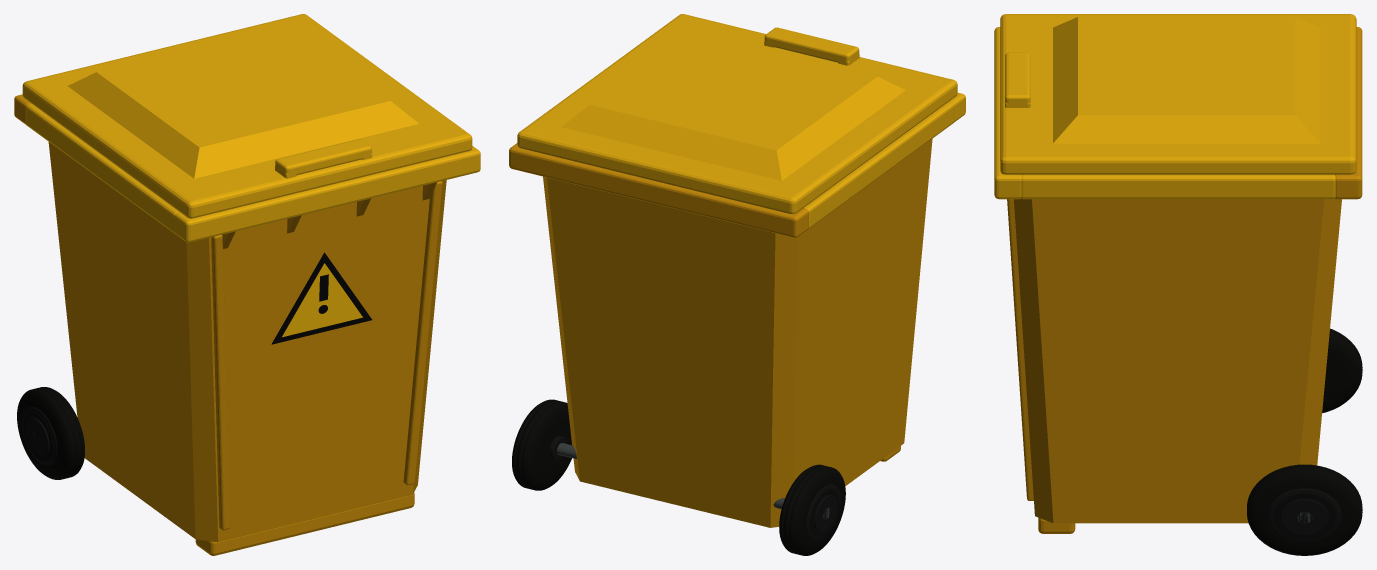
Rendered from asset.fbx.
The picture shows the model from 3 angles, left to right: view 1: azimuth 30°, elevation 25°; view 2: azimuth 150°, elevation 25°; view 3: azimuth 270°, elevation 25°; orthographic projection. The views are drawn at different scales.
Parts seen in each view (by area): view 1: my_asset_hollow_tapered_body, my_asset_lid_raised_center, my_asset_removable_lid_plate, my_asset_front_top_rim, my_asset_left_top_rim, my_asset_front_right_vertical_rib, my_asset_front_left_vertical_rib, my_asset_left_wheel, my_asset_front_bottom_contact, my_asset_front_warning_yellow_inset, my_asset_lid_front_grip, my_asset_front_warning_triangle (+2 smaller); view 2: my_asset_hollow_tapered_body, my_asset_lid_raised_center, my_asset_removable_lid_plate, my_asset_rear_top_rim, my_asset_right_wheel, my_asset_left_top_rim, my_asset_left_wheel, my_asset_lid_front_grip, my_asset_left_wheel_hub; view 3: my_asset_hollow_tapered_body, my_asset_lid_raised_center, my_asset_removable_lid_plate, my_asset_right_top_rim, my_asset_right_wheel, my_asset_left_wheel, my_asset_front_right_vertical_rib, my_asset_rear_top_rim, my_asset_front_top_rim, my_asset_right_wheel_hub, my_asset_lid_front_grip, my_asset_right_hub_outer_flange (+1 smaller).
Part boxes in pixels (x1=…): my_asset_hollow_tapered_body: x1=48, y1=142, x2=446, y2=542; my_asset_lid_raised_center: x1=68, y1=25, x2=419, y2=178; my_asset_removable_lid_plate: x1=22, y1=14, x2=472, y2=218; my_asset_front_top_rim: x1=174, y1=146, x2=480, y2=242; my_asset_left_top_rim: x1=25, y1=103, x2=179, y2=233; my_asset_front_right_vertical_rib: x1=403, y1=181, x2=442, y2=485; my_asset_front_left_vertical_rib: x1=211, y1=235, x2=230, y2=530; my_asset_left_wheel: x1=17, y1=387, x2=84, y2=479; my_asset_front_bottom_contact: x1=195, y1=492, x2=414, y2=555; my_asset_front_warning_yellow_inset: x1=282, y1=263, x2=362, y2=337; my_asset_lid_front_grip: x1=275, y1=139, x2=371, y2=175; my_asset_front_warning_triangle: x1=271, y1=252, x2=372, y2=344; my_asset_hollow_tapered_body: x1=543, y1=139, x2=932, y2=527; my_asset_lid_raised_center: x1=561, y1=31, x2=905, y2=180; my_asset_removable_lid_plate: x1=517, y1=14, x2=957, y2=214; my_asset_rear_top_rim: x1=509, y1=143, x2=808, y2=237; my_asset_right_wheel: x1=512, y1=399, x2=571, y2=490; my_asset_left_top_rim: x1=804, y1=101, x2=954, y2=228; my_asset_left_wheel: x1=779, y1=464, x2=845, y2=555; my_asset_lid_front_grip: x1=764, y1=27, x2=859, y2=62; my_asset_left_wheel_hub: x1=814, y1=494, x2=837, y2=532; my_asset_hollow_tapered_body: x1=1014, y1=199, x2=1341, y2=523; my_asset_lid_raised_center: x1=1053, y1=17, x2=1320, y2=143; my_asset_removable_lid_plate: x1=1000, y1=14, x2=1356, y2=174; my_asset_right_top_rim: x1=1021, y1=174, x2=1335, y2=199; my_asset_right_wheel: x1=1247, y1=464, x2=1362, y2=555; my_asset_left_wheel: x1=1322, y1=328, x2=1362, y2=413; my_asset_front_right_vertical_rib: x1=1007, y1=199, x2=1033, y2=500; my_asset_rear_top_rim: x1=1335, y1=27, x2=1362, y2=199; my_asset_front_top_rim: x1=994, y1=27, x2=1021, y2=199; my_asset_right_wheel_hub: x1=1280, y1=498, x2=1328, y2=535; my_asset_lid_front_grip: x1=1005, y1=52, x2=1030, y2=105; my_asset_right_hub_outer_flange: x1=1267, y1=488, x2=1341, y2=543.
Size of the model in its own units: 0.32 by 0.4 by 0.32.
